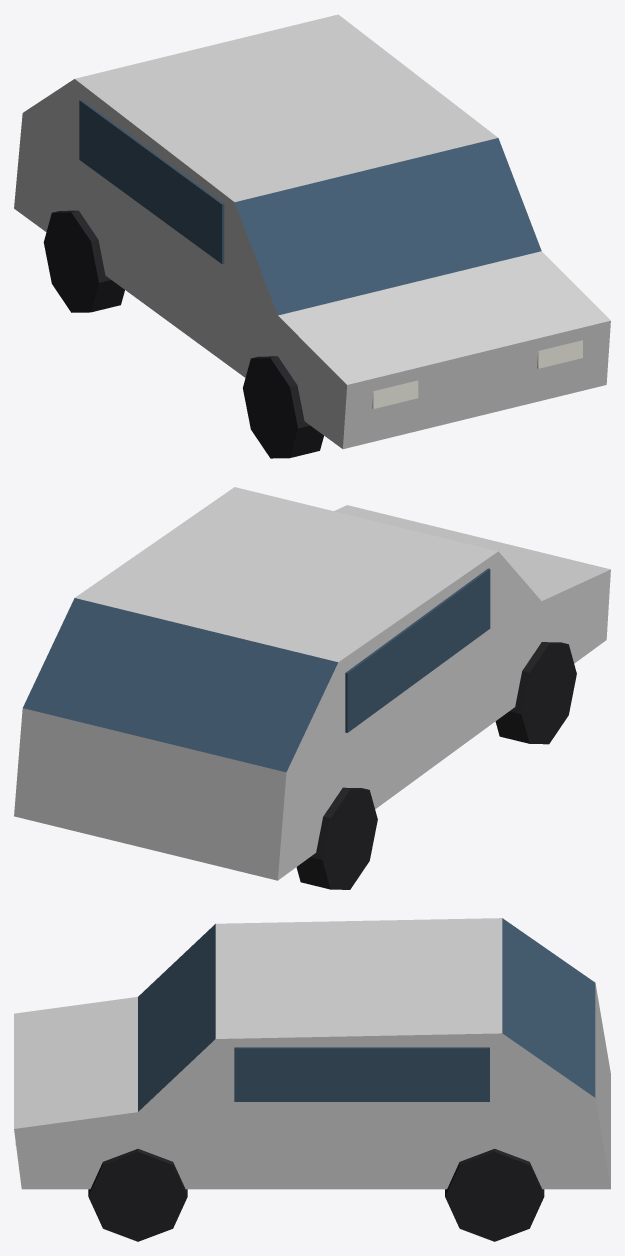
Rendered from carro_rua_4.glb.
3 renders of one model, top to bottom at view 1: azimuth 30°, elevation 25°; view 2: azimuth 150°, elevation 25°; view 3: azimuth 270°, elevation 25°, orthographic. The views are drawn at different scales.
Visible parts, largest first — view 1: cor, vi, pre, far; view 2: cor, vi, pre; view 3: cor, vi, pre.
Boxes of the visible parts, left/top/right/bottom form: cor: left=14, top=14, right=610, bottom=449; vi: left=79, top=99, right=541, bottom=315; pre: left=43, top=210, right=323, bottom=458; far: left=372, top=340, right=582, bottom=408; cor: left=14, top=487, right=610, bottom=880; vi: left=23, top=568, right=490, bottom=772; pre: left=296, top=642, right=576, bottom=889; cor: left=14, top=918, right=610, bottom=1189; vi: left=138, top=918, right=595, bottom=1111; pre: left=88, top=1148, right=544, bottom=1241.
Size of the model in its own units: 1.86 by 1.46 by 3.85.
